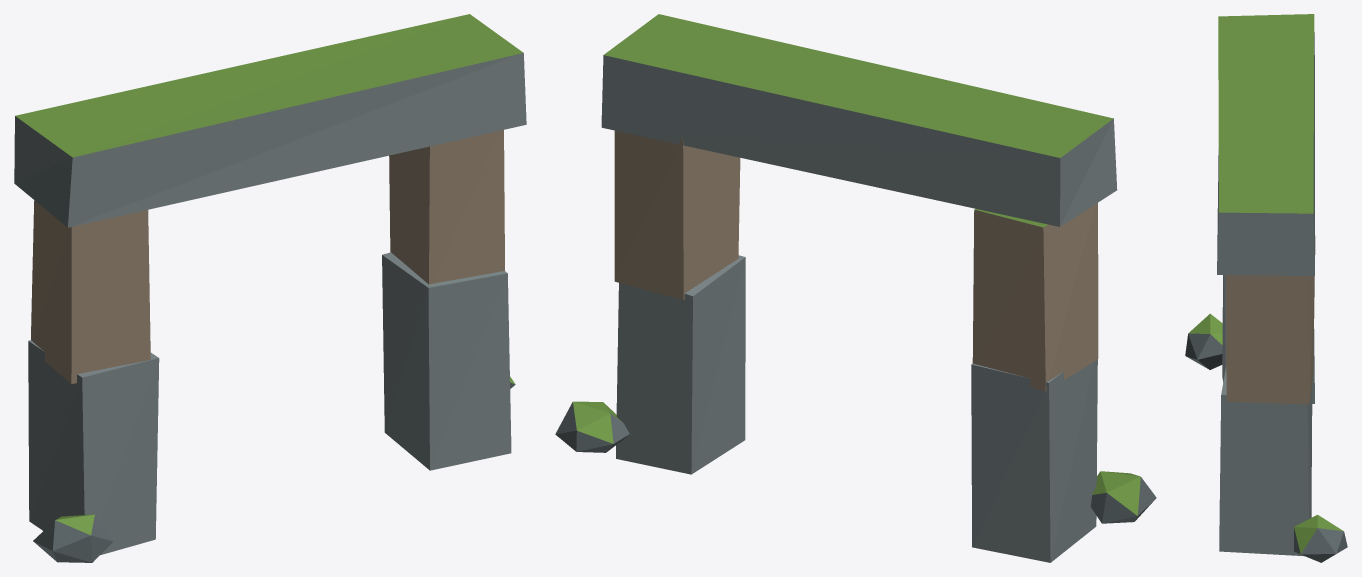
File: world_landmark_stone_arch.obj
3 renders of one model, left to right at view 1: azimuth 30°, elevation 25°; view 2: azimuth 150°, elevation 25°; view 3: azimuth 270°, elevation 25°, orthographic. The views are drawn at different scales.
Visible parts, largest first — view 1: world_landmark_stone_arch; view 2: world_landmark_stone_arch; view 3: world_landmark_stone_arch.
Boxes of the visible parts, x1,y1,x2,y2 form: world_landmark_stone_arch: [14, 14, 526, 562]; world_landmark_stone_arch: [555, 14, 1156, 562]; world_landmark_stone_arch: [1185, 14, 1347, 562].
Bounding box in the file's own units: 24.67 × 18.46 × 7.68.
